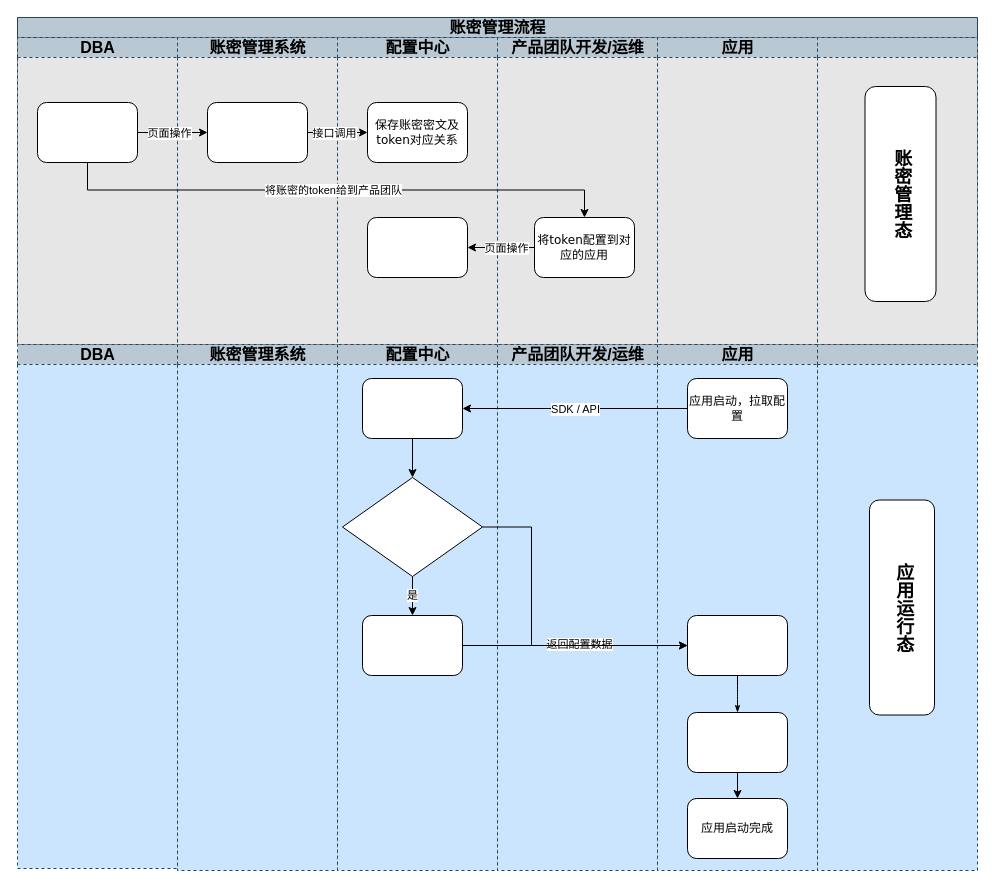
Some shapes in this 995 by 888 pixel diagram are drawn without their labels. Each missing label, with the centre of its shape:
"创建账密" goes at point (87, 132).
"判断是配置项中是否有token类型" goes at point (412, 526).
"存储配置项，并设置为token类型" goes at point (417, 247).
"将token替换为账密密文" goes at point (412, 645).
"应用将密文解密为明文，连接数据库" goes at point (737, 742).
"应用拿到账密密文" goes at point (737, 645).
"查询应用相关配置" goes at point (412, 408).
"生成账密的密文及token" goes at point (257, 132).
